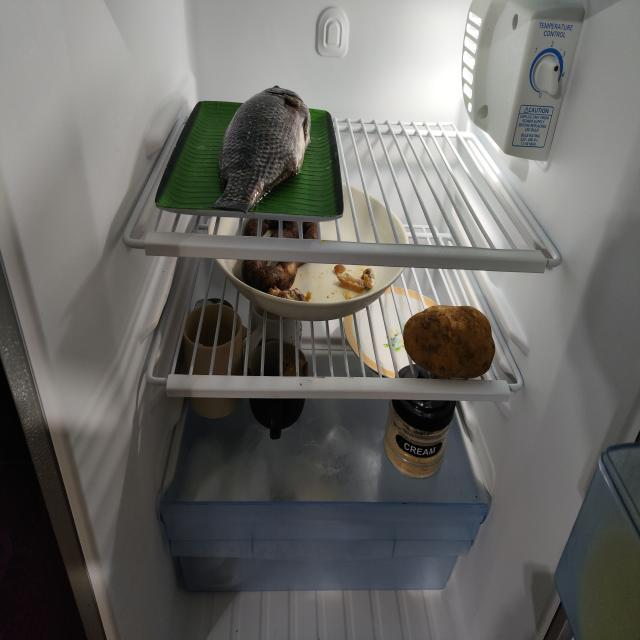fish: (217, 86, 311, 218)
potato: (402, 303, 496, 377)
